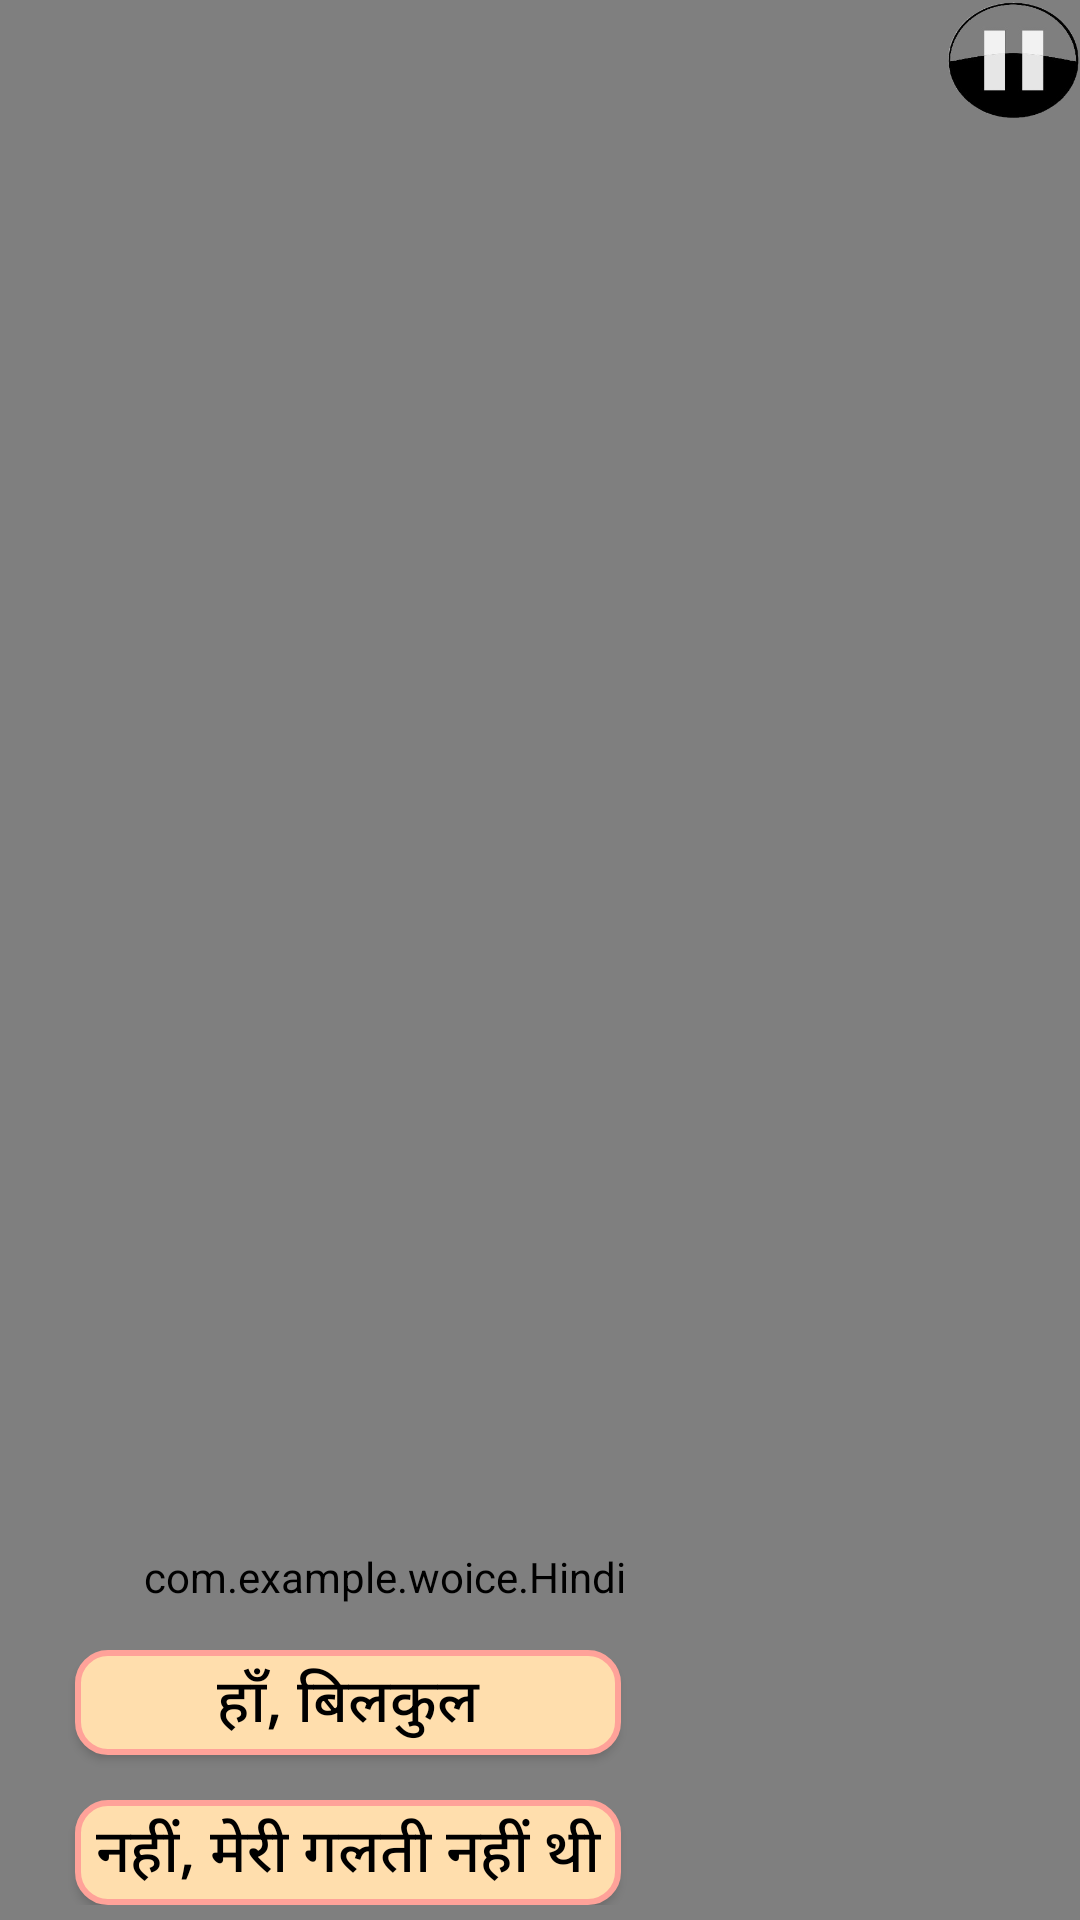

Icons on this 1080px x 1920px Android screen, each with the point to tap as (x=x, y=y):
pauseicon: (x=1014, y=60)
